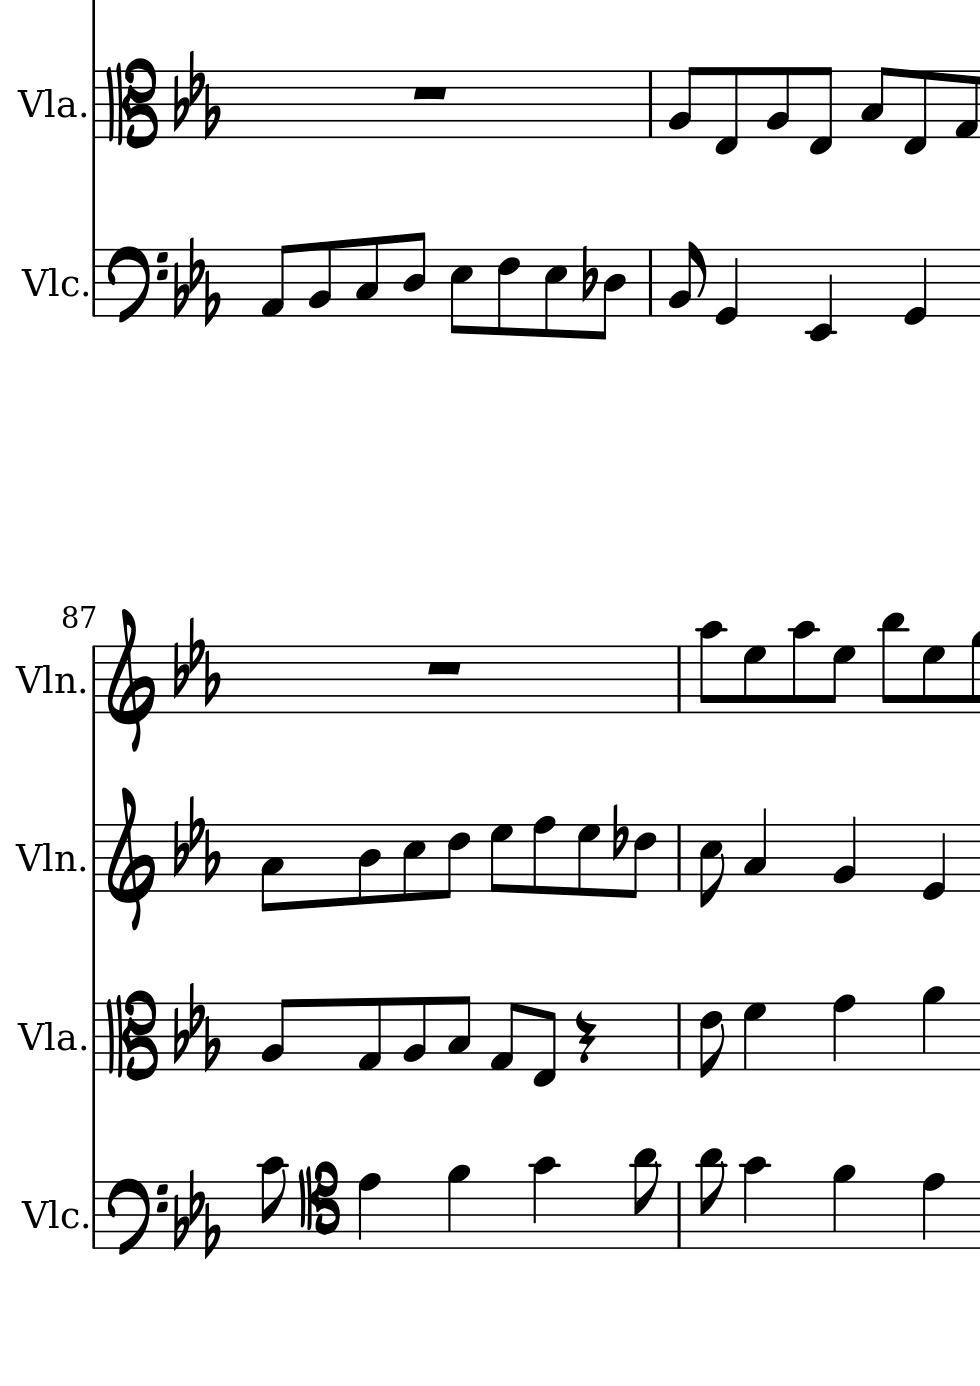4_-2: (808, 246, 836, 343)
4_0: (713, 247, 740, 327), (902, 247, 929, 327), (920, 823, 947, 902)
4_10: (529, 1155, 559, 1251), (739, 1155, 768, 1253)
4_2: (832, 814, 858, 893)
4_3: (742, 807, 768, 893)
4_7: (740, 1001, 767, 1073)
4_8: (918, 1171, 946, 1251), (355, 1171, 382, 1251), (830, 993, 856, 1072)
4_9: (443, 1164, 472, 1251), (829, 1164, 856, 1251), (920, 984, 945, 1072)
7: (78, 603, 97, 632)
8: (60, 603, 78, 632)
8_-1: (710, 65, 741, 159), (805, 64, 835, 158), (900, 68, 929, 158), (531, 1001, 558, 1091)
8_1: (259, 243, 293, 318), (488, 1000, 521, 1073), (354, 996, 384, 1073), (952, 68, 978, 140)
8_10: (257, 1155, 288, 1250), (697, 619, 727, 715), (789, 618, 818, 715)
8_11: (630, 1145, 661, 1251), (696, 1146, 727, 1252), (878, 612, 908, 715)
8_2: (665, 240, 705, 318), (665, 65, 700, 140), (260, 997, 293, 1071), (400, 995, 427, 1072), (307, 239, 333, 318), (764, 65, 791, 140)
8_3: (858, 65, 891, 140), (259, 823, 284, 914), (353, 235, 380, 318), (445, 994, 471, 1073)
8_4: (594, 247, 627, 343), (402, 230, 427, 319), (355, 823, 381, 906)
8_5: (541, 248, 567, 341), (697, 823, 724, 910), (447, 246, 473, 336), (400, 823, 425, 903)
8_6: (438, 822, 471, 901), (624, 823, 657, 901), (696, 1001, 727, 1081), (493, 247, 520, 338)
8_7: (824, 644, 856, 715), (575, 823, 601, 898), (920, 644, 945, 715), (741, 644, 766, 715), (488, 823, 512, 894)
8_8: (529, 814, 555, 897)
A_F: (170, 1168, 222, 1256)
Cclef: (103, 57, 158, 150), (103, 990, 157, 1081)
E_F: (170, 49, 222, 138), (170, 235, 222, 323), (171, 795, 222, 884), (171, 981, 221, 1071), (171, 617, 221, 705)
Fclef: (105, 1176, 168, 1257), (106, 243, 168, 324)
Flat: (579, 242, 598, 301), (609, 802, 628, 860)
Gclef: (105, 784, 156, 932), (105, 607, 157, 752)
Rests1: (422, 657, 465, 678), (409, 82, 450, 102)
Rests4: (573, 1008, 597, 1066)
Single_barline: (670, 647, 688, 713), (642, 70, 658, 138), (671, 1003, 687, 1070), (642, 250, 658, 315), (671, 825, 687, 890), (87, 70, 101, 139), (87, 1003, 101, 1071), (671, 1186, 686, 1248), (87, 825, 101, 892), (87, 250, 101, 316), (87, 1182, 101, 1248), (87, 646, 100, 714)
Tensor_Cclef: (297, 1160, 342, 1249)
Vla: (16, 1015, 77, 1059), (17, 83, 77, 126)
Vlc: (20, 259, 78, 302), (20, 1193, 78, 1233)
Vln: (15, 837, 76, 879), (17, 660, 78, 700)
